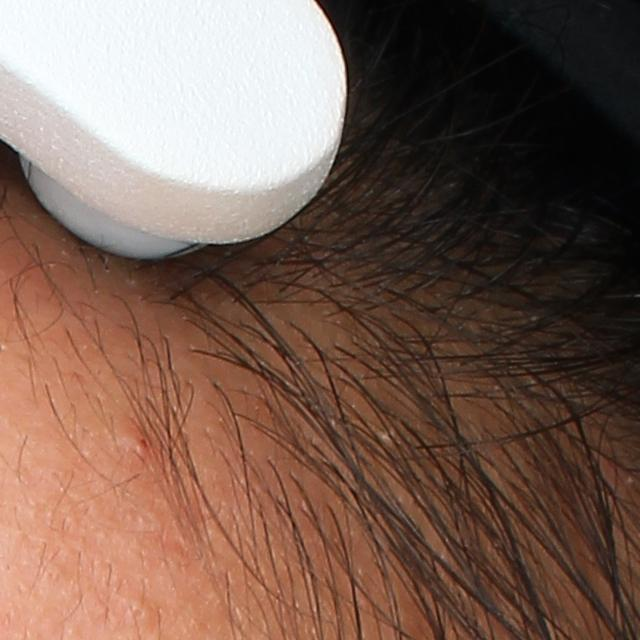comedo: (125, 595, 162, 626)
papule: (124, 426, 158, 458)
